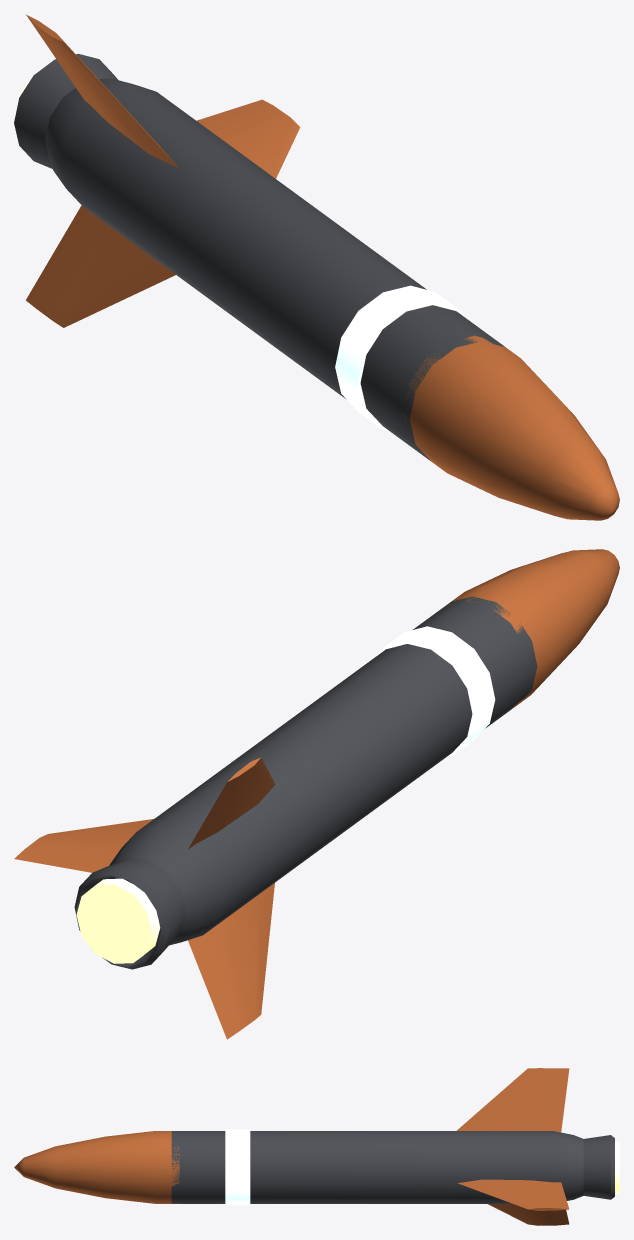
The model's file is mini_missile.glb.
3 renders of one model, top to bottom at view 1: azimuth 30°, elevation 25°; view 2: azimuth 150°, elevation 25°; view 3: azimuth 270°, elevation 25°, orthographic. The views are drawn at different scales.
Visible parts, largest first — view 1: Body; view 2: Body, Exhaust; view 3: Body, Exhaust.
Part boxes in pixels (<box>): Body: <box>14,14,619,520</box>; Body: <box>14,549,619,1039</box>; Exhaust: <box>76,878,160,963</box>; Body: <box>14,1068,614,1225</box>; Exhaust: <box>615,1141,619,1193</box>.
Size of the model in its own units: 0.1818 by 0.2099 by 0.731.
